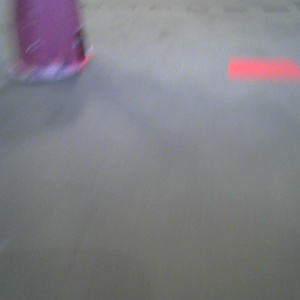right: (14, 1, 91, 80)
